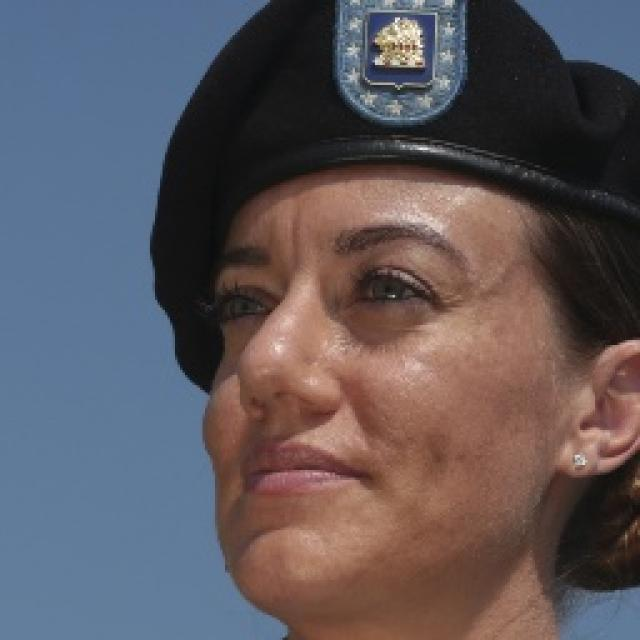earlobe: (560, 428, 606, 478)
eye: (351, 268, 428, 307), (216, 288, 277, 322)
nose: (234, 376, 330, 445)
wholeear: (560, 339, 640, 478)
